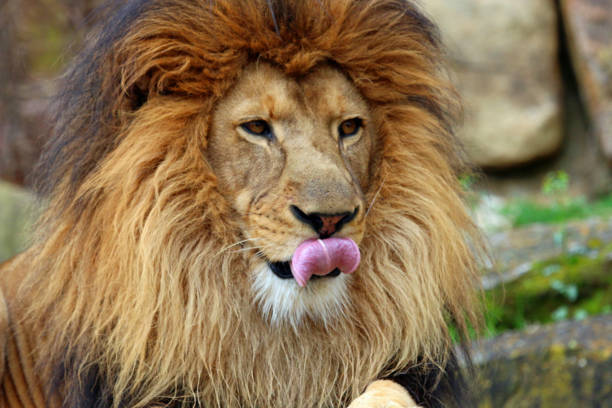lion: (9, 4, 511, 408)
